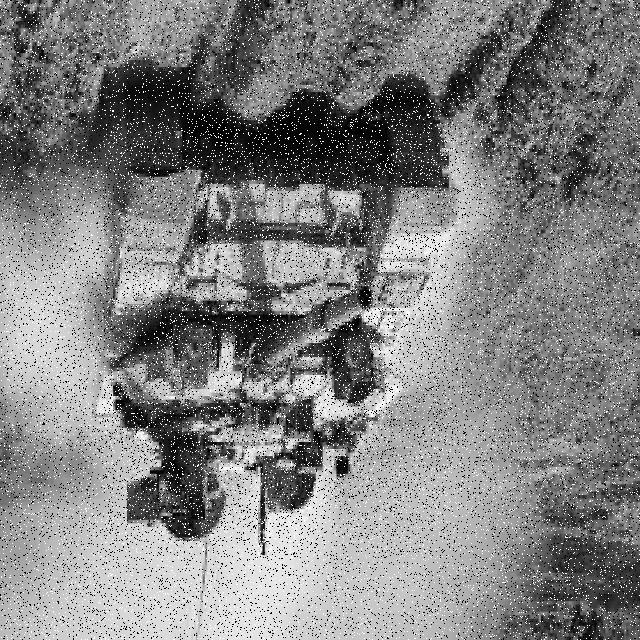MIL_MBT: (104, 108, 446, 542)
